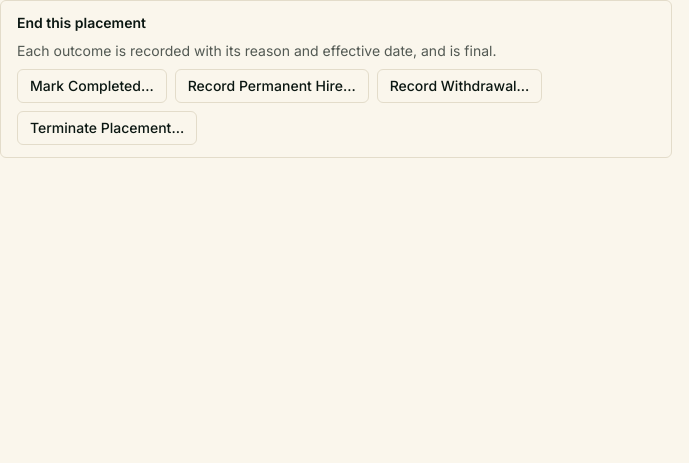
Test: TerminalOutcomePanel (Story 5.8) › requires a reason category and note to terminate (ADR-018)
Click the button "Terminate Placement…" at (107,128), box [17, 111, 197, 145]
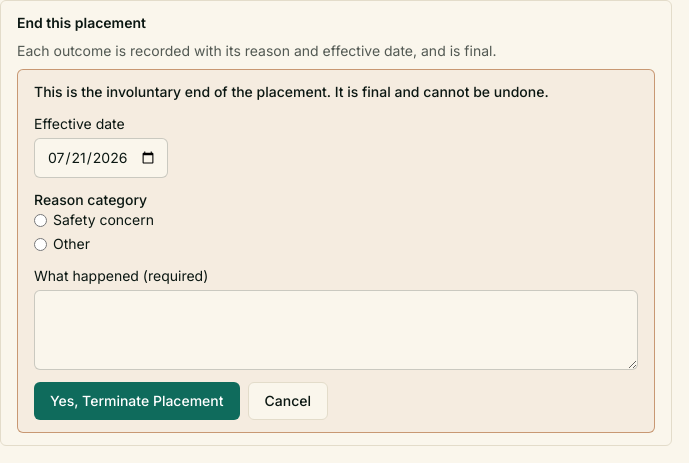
Check: the element "Reason category" is shown, box [34, 191, 154, 252]
Check: the text "final and cannot be undone" is shown, box [34, 83, 549, 100]
Cancel returns to the four actions without recording anything.
Click the button "Cancel" at (288,401), box [248, 382, 328, 420]
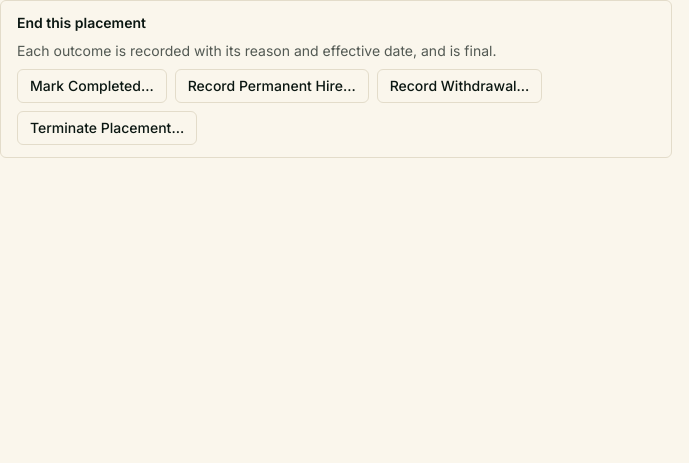
Check: the button "Mark Completed…" is shown, box [17, 69, 167, 103]
